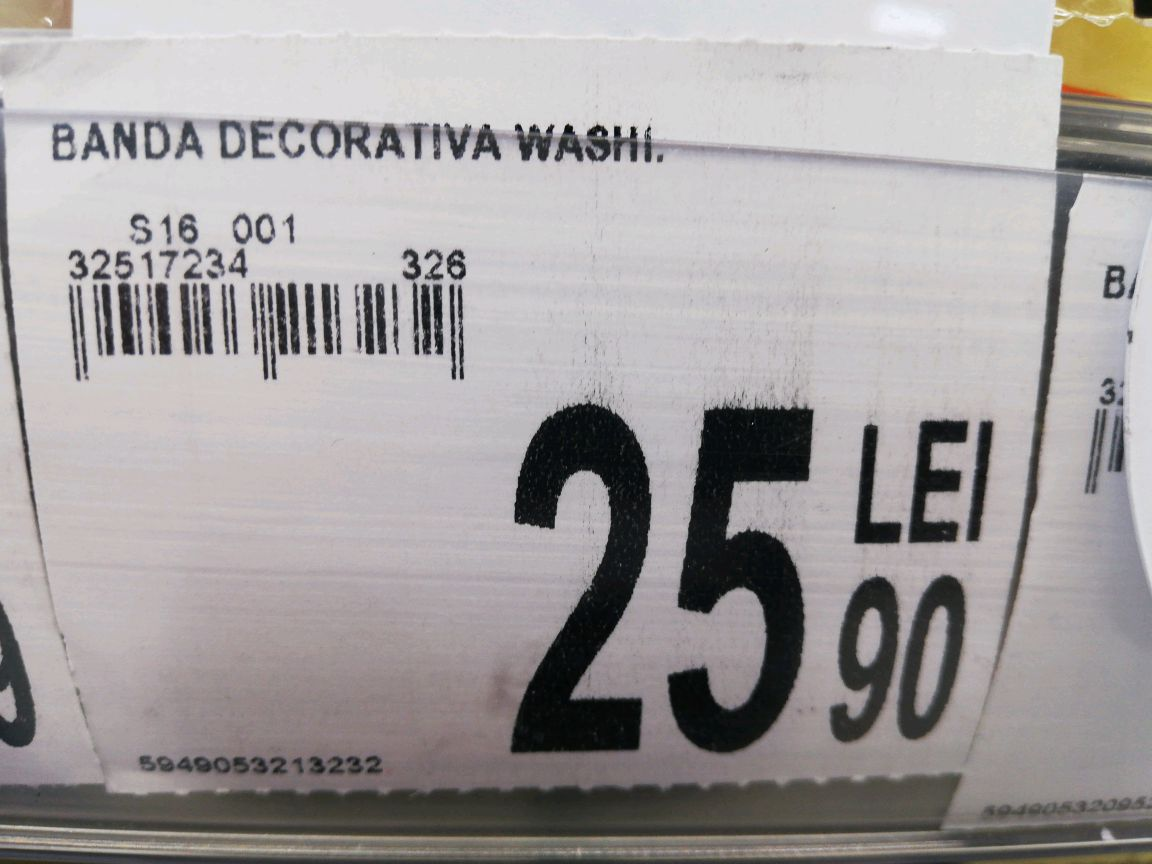price_bani: (820, 566, 982, 759)
price_lei: (476, 395, 832, 773)
price_tag: (6, 24, 1075, 812)
product_id: (126, 745, 403, 791)
product_name: (25, 107, 683, 184)
